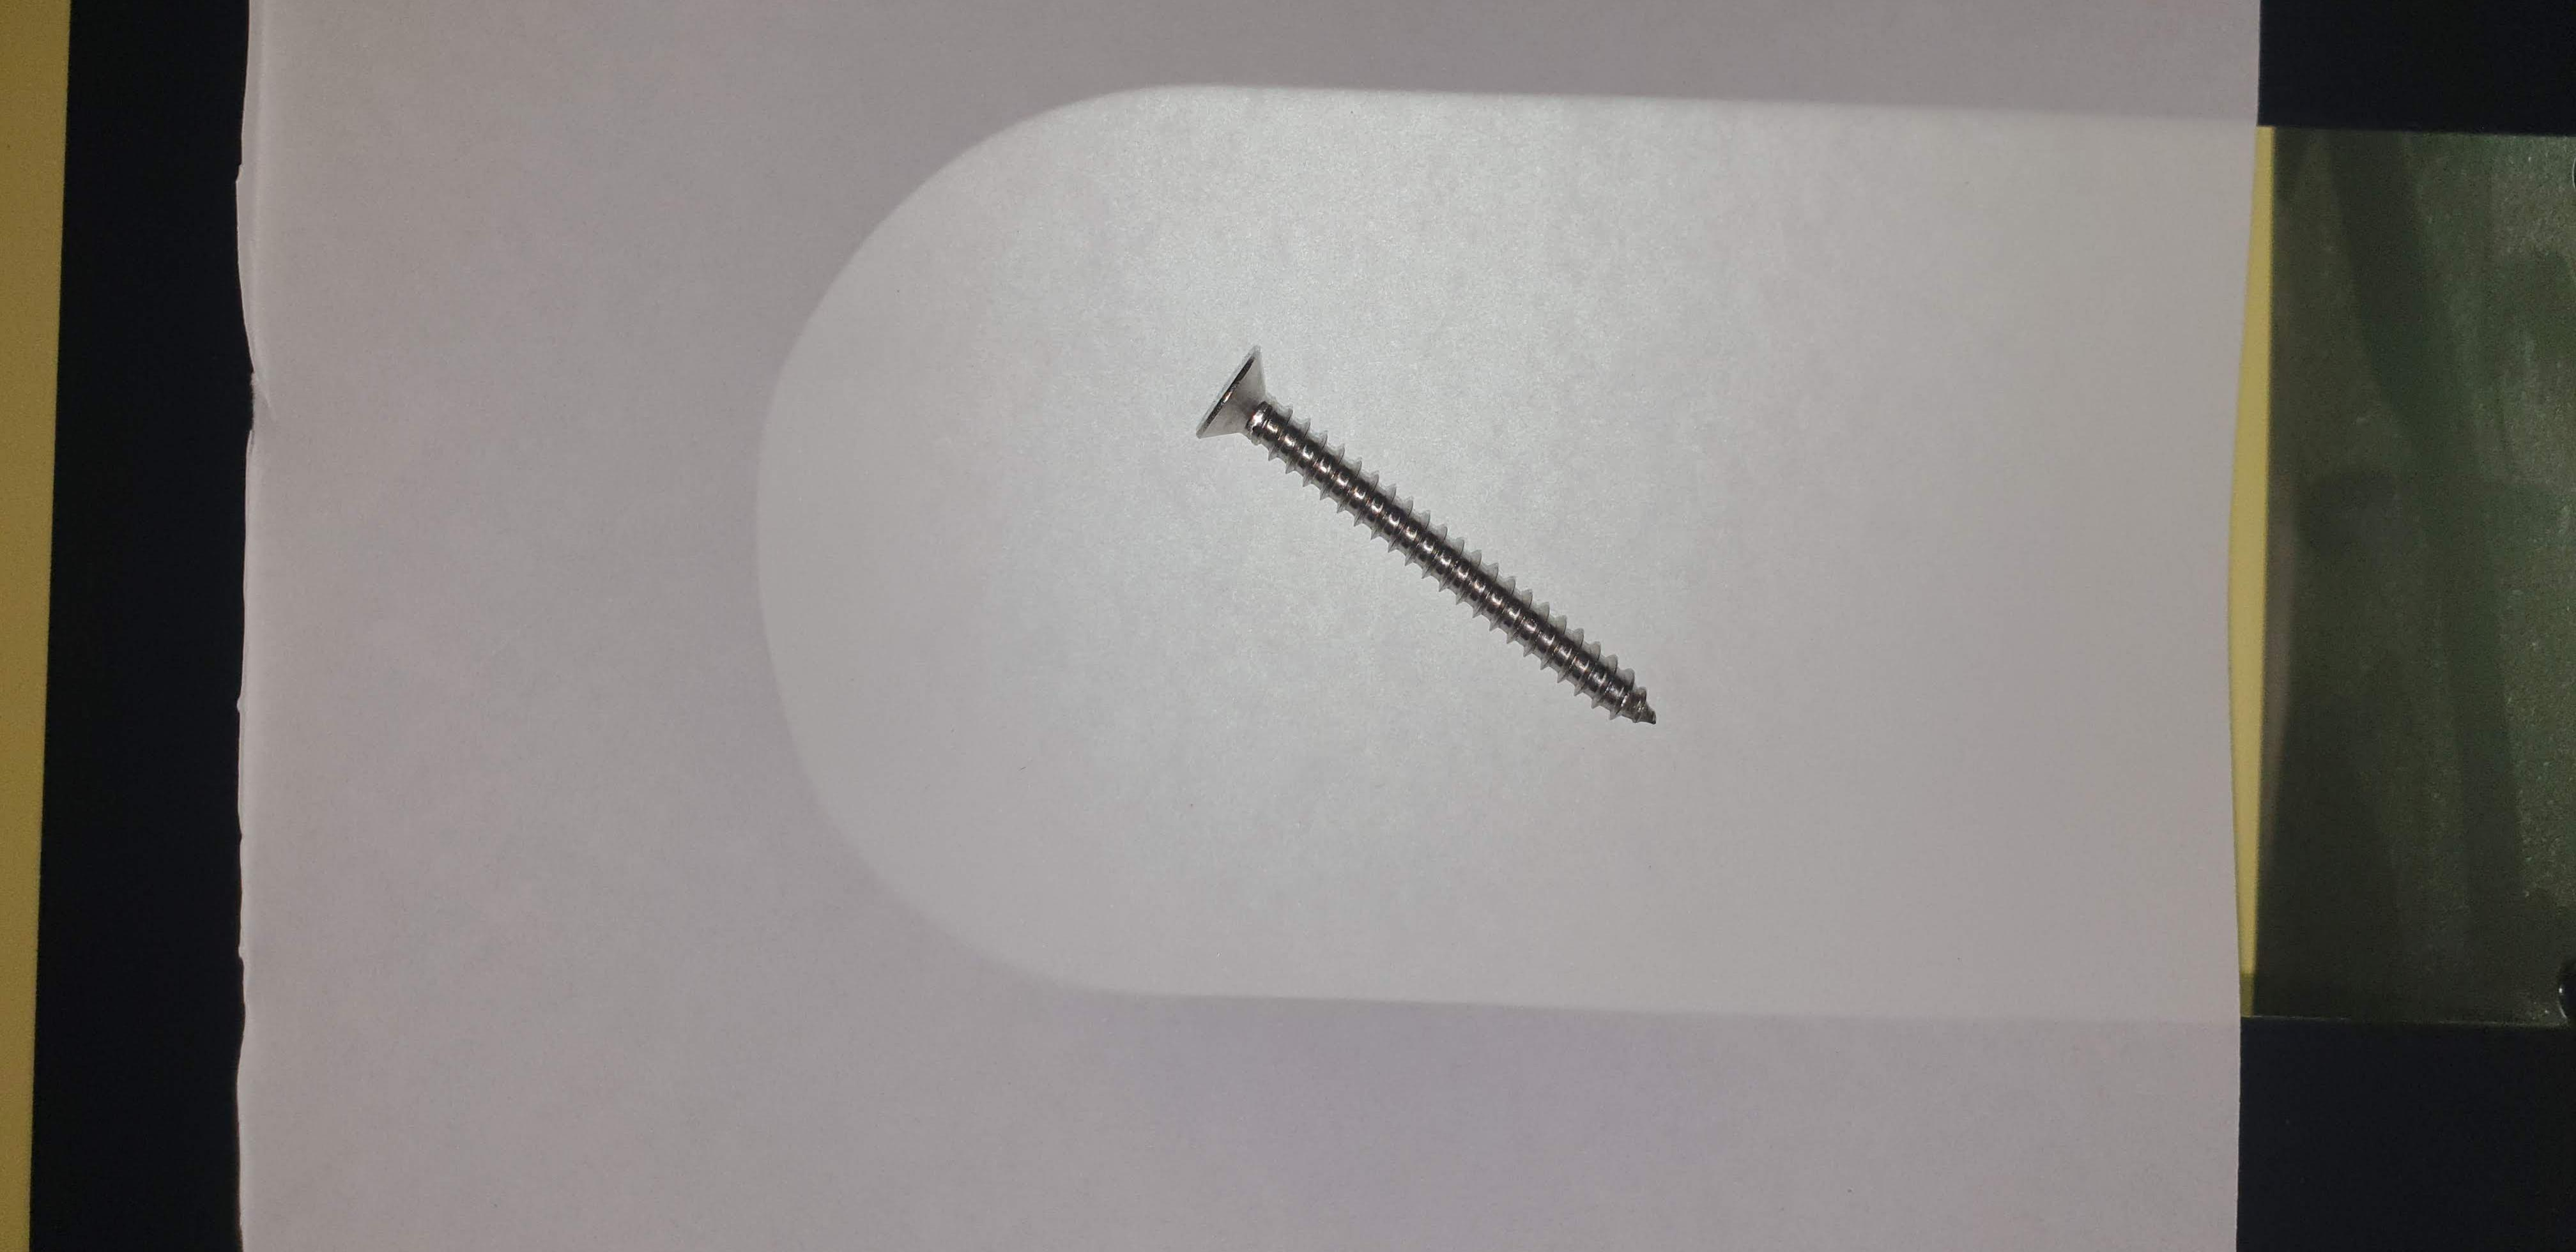fastener: (1138, 312, 1814, 794)
